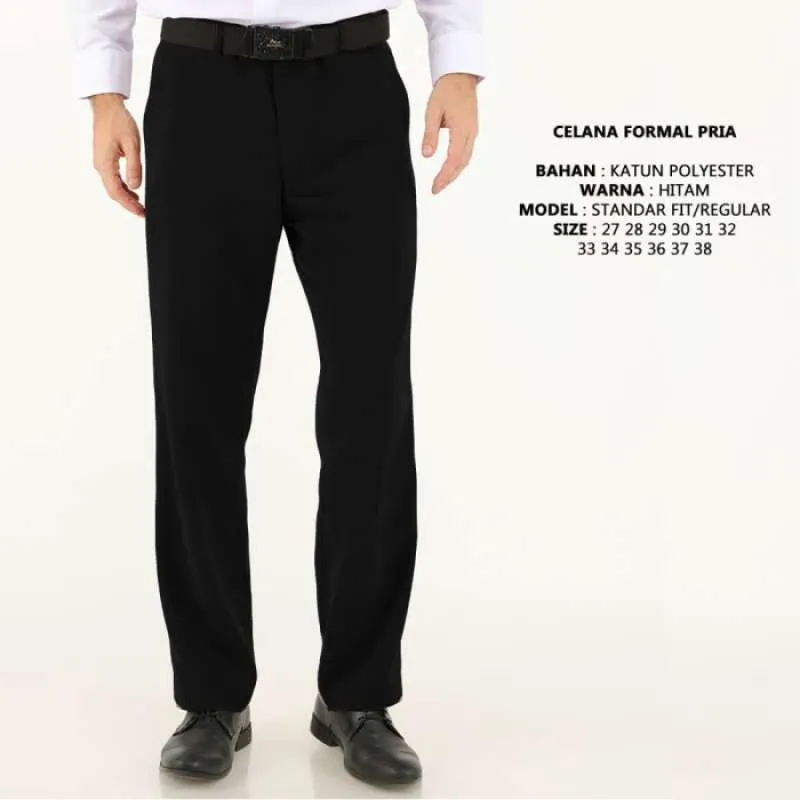celana_benar: (147, 43, 416, 705)
sabuk_ada: (160, 13, 394, 61)
